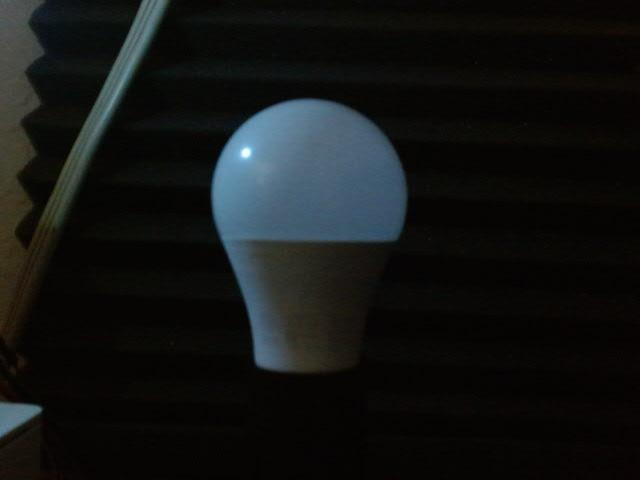Fan: (203, 92, 413, 306)
